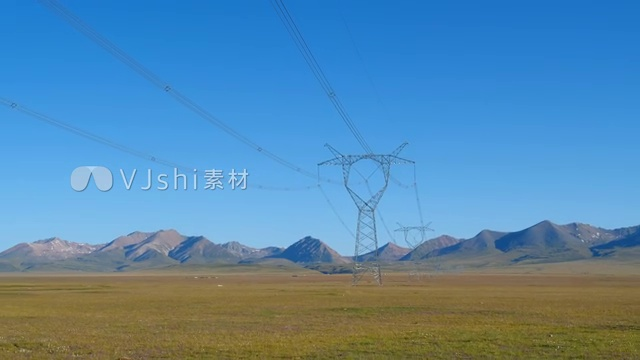tower_body: (312, 136, 425, 289)
tower_foot: (350, 251, 386, 287)
tower_head: (315, 138, 421, 215)
